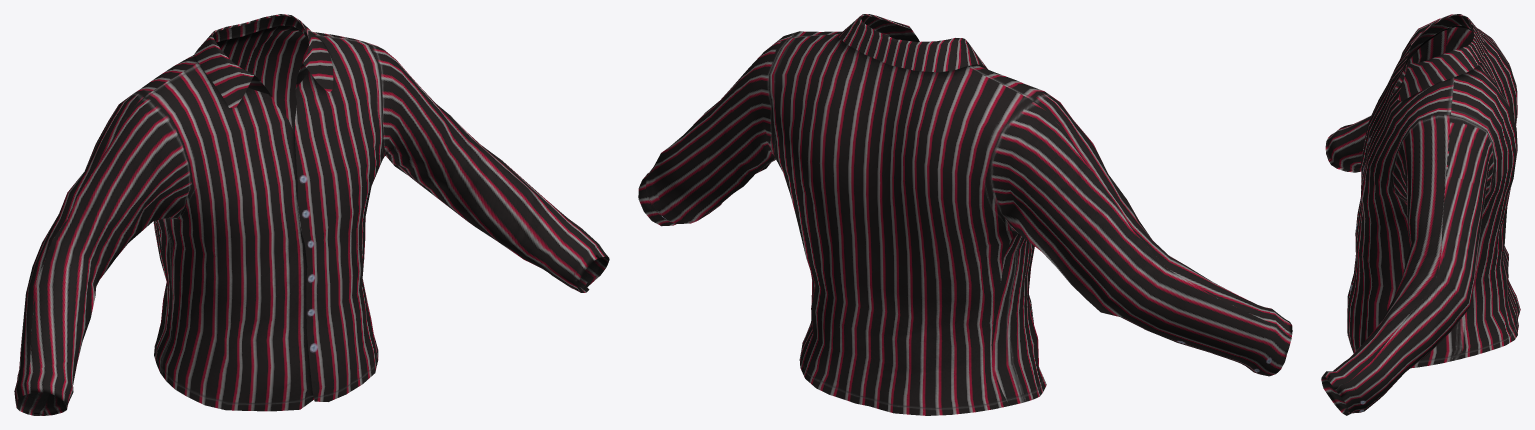
The model's file is LXS_SMM.dae.
3 renders of one model, left to right at view 1: azimuth 30°, elevation 25°; view 2: azimuth 150°, elevation 25°; view 3: azimuth 270°, elevation 25°, orthographic. The views are drawn at different scales.
Visible parts, largest first — view 1: dressshirt; view 2: dressshirt; view 3: dressshirt.
Boxes of the visible parts, x1,y1,x2,y2 form: dressshirt: (14, 14, 609, 415); dressshirt: (638, 14, 1292, 415); dressshirt: (1321, 14, 1520, 415).
Bounding box in the file's own units: 10.12 × 5.61 × 3.28.
